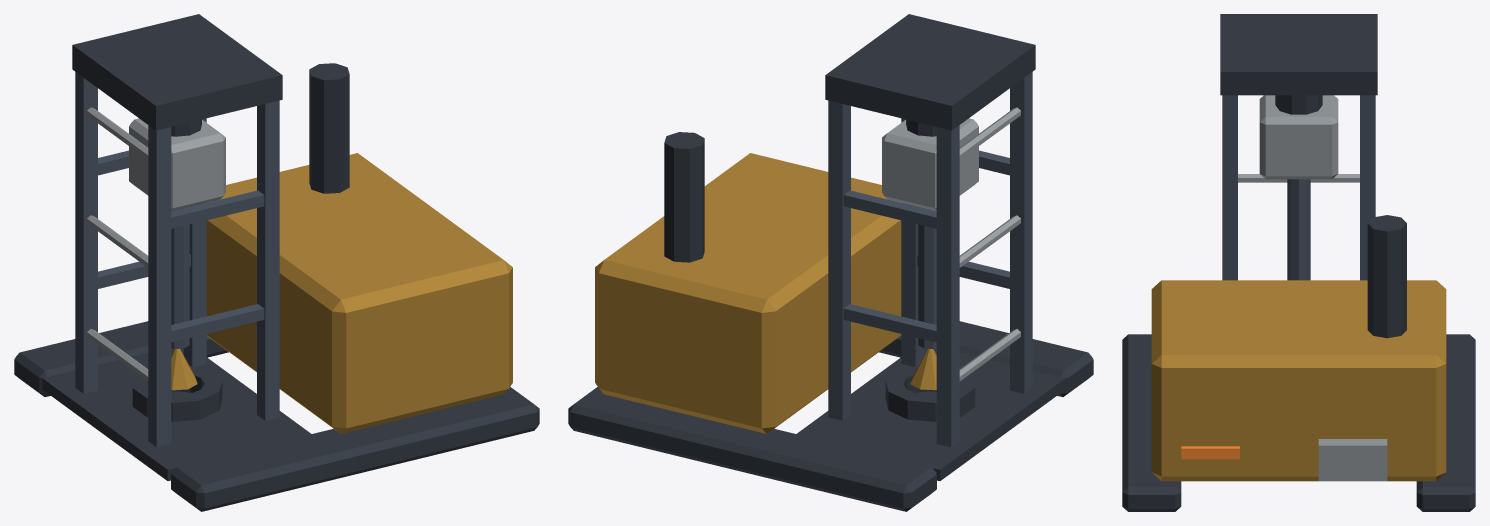
The model's file is burner_mining_drill.obj.
3 views of the same model, side by side, from view 1: azimuth 30°, elevation 25°; view 2: azimuth 150°, elevation 25°; view 3: azimuth 270°, elevation 25° (orthographic). The views are drawn at different scales.
Visible parts, largest first — view 1: body, part; view 2: body, part; view 3: body, part.
Boxes of the visible parts, x1,y1,x2,y2 form: body: (14,14,539,511); part: (129,118,225,390); body: (568,14,1093,511); part: (882,118,978,390); body: (1122,14,1475,511); part: (1259,95,1338,280).
Size of the model in its own units: 1.93 by 1.95 by 1.8.
